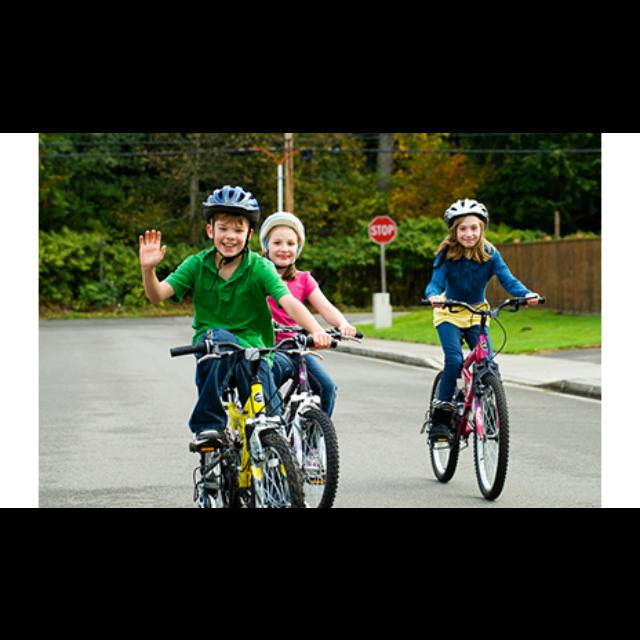With Helmet: (189, 185, 263, 258), (440, 194, 492, 252), (260, 210, 306, 268)
